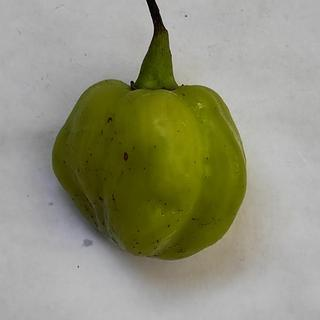Fly-bites: (102, 111, 119, 129), (188, 212, 204, 226), (132, 237, 146, 253), (120, 150, 134, 164), (108, 191, 123, 203), (93, 190, 104, 206), (165, 220, 176, 235), (151, 235, 163, 248), (84, 159, 94, 170), (58, 156, 69, 166)
